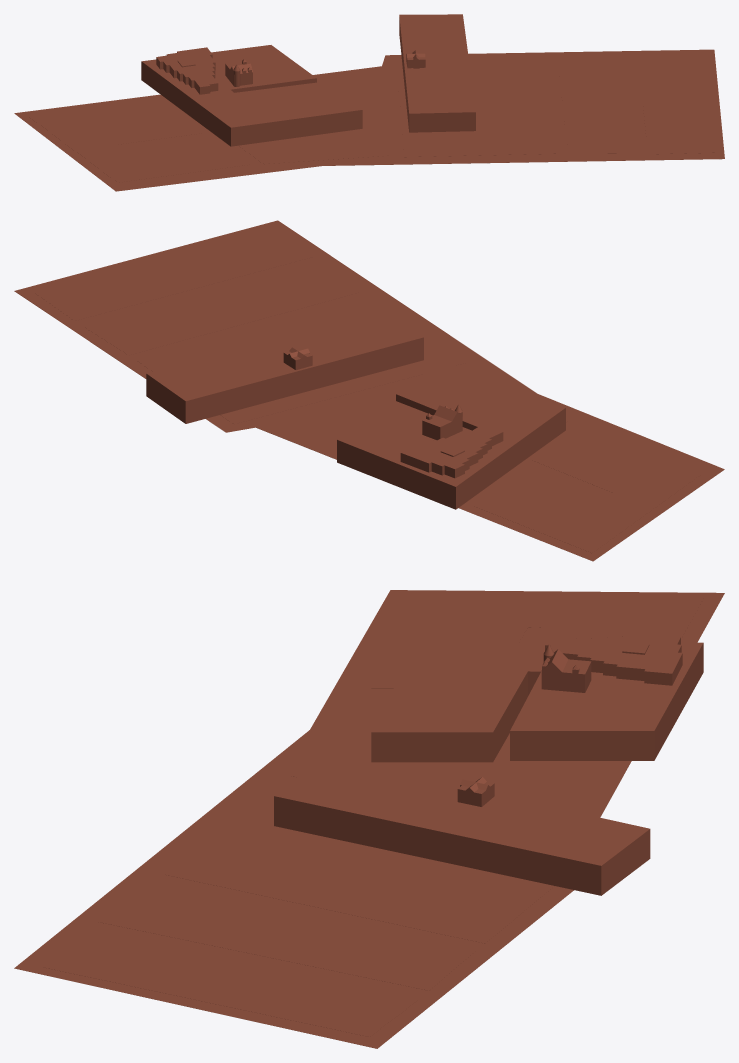
Rendered from school_02.obj.
3 views of the same model, one above another, from view 1: azimuth 30°, elevation 25°; view 2: azimuth 150°, elevation 25°; view 3: azimuth 270°, elevation 25° (orthographic). The views are drawn at different scales.
Bounding box in the file's own units: 15.39 × 1.22 × 10.08.
